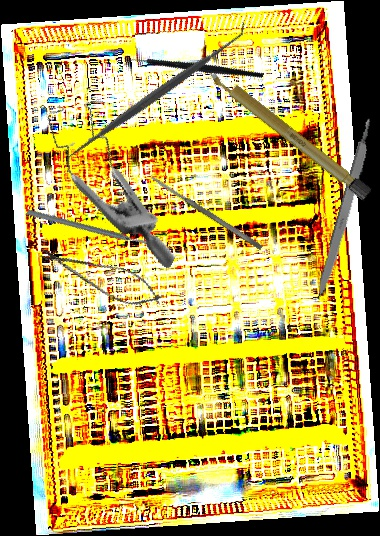Chopper: (122, 14, 265, 126), (25, 165, 156, 287)
Micro Scissor: (34, 238, 168, 316)
Scalpel Handle: (204, 65, 374, 202), (313, 116, 379, 303)
Spatula Surgical: (56, 19, 256, 170), (149, 173, 264, 252)
Speculum: (10, 82, 223, 270)
